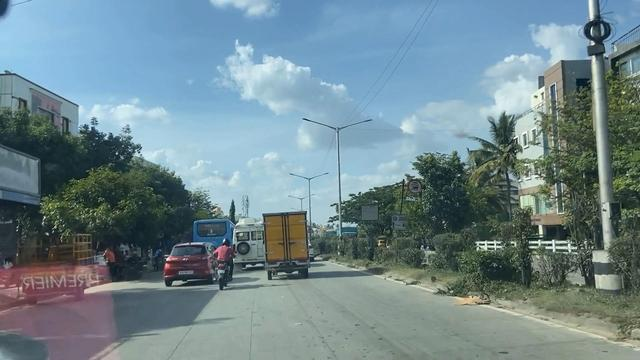HMV: (260, 216, 312, 276), (231, 223, 269, 263)
LMV: (155, 238, 220, 284), (215, 245, 238, 288)
